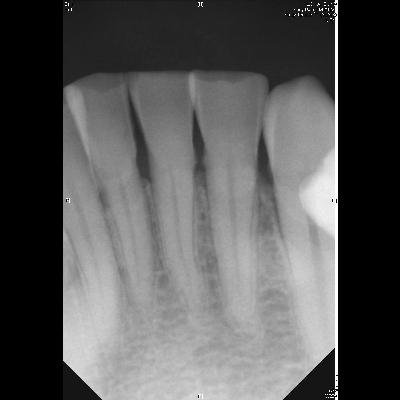tooth: (125, 70, 216, 330), (63, 71, 158, 316), (191, 67, 267, 349)
